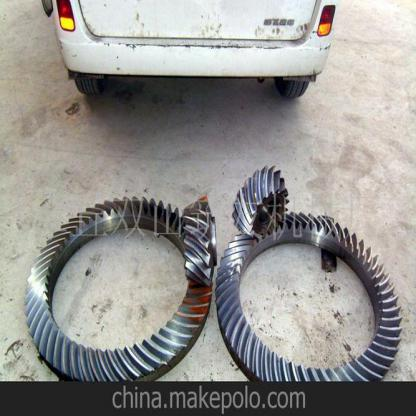FOD: (212, 201, 404, 398), (22, 191, 213, 386), (232, 164, 292, 245), (180, 196, 221, 286)
